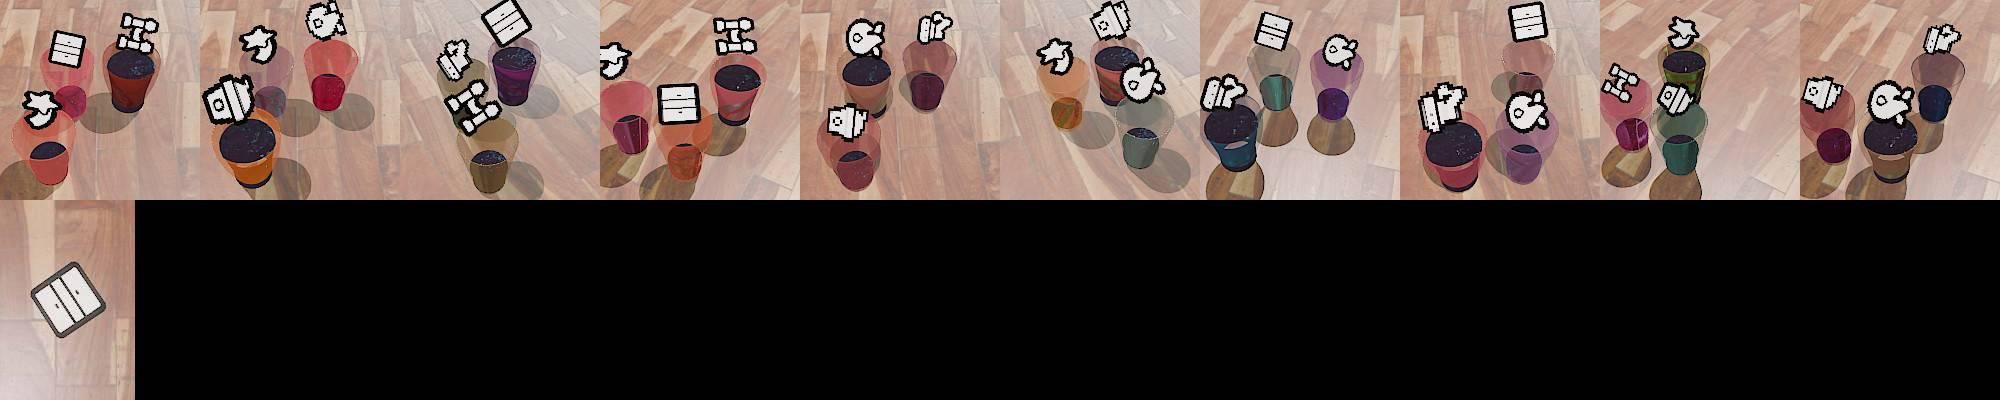icon: (29, 261, 107, 339), (440, 76, 500, 135), (202, 74, 258, 127), (480, 0, 532, 50), (1418, 80, 1467, 134), (1866, 78, 1915, 122), (1120, 56, 1165, 103), (1504, 88, 1548, 134), (656, 83, 703, 126), (712, 17, 758, 57), (304, 0, 347, 42), (116, 11, 161, 52), (844, 15, 885, 59), (1202, 73, 1246, 112), (1508, 1, 1548, 43), (1089, 0, 1131, 41), (827, 102, 870, 141), (1601, 62, 1642, 103), (20, 88, 61, 129), (239, 24, 279, 65), (47, 28, 87, 70), (1254, 10, 1293, 52), (436, 38, 473, 83), (1801, 75, 1844, 112), (1037, 37, 1074, 74), (916, 10, 954, 46), (1321, 33, 1358, 69), (1657, 82, 1695, 116), (599, 41, 631, 80), (1922, 23, 1960, 55), (1667, 15, 1700, 51)
